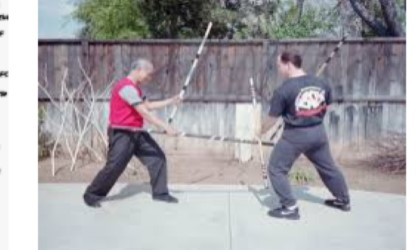baston_e: (157, 20, 208, 117), (122, 123, 255, 150), (247, 89, 270, 184)
baston_v: (204, 17, 218, 29), (340, 27, 349, 41), (270, 138, 279, 150), (258, 179, 271, 187), (107, 121, 117, 131), (247, 75, 254, 84), (160, 126, 166, 136)
